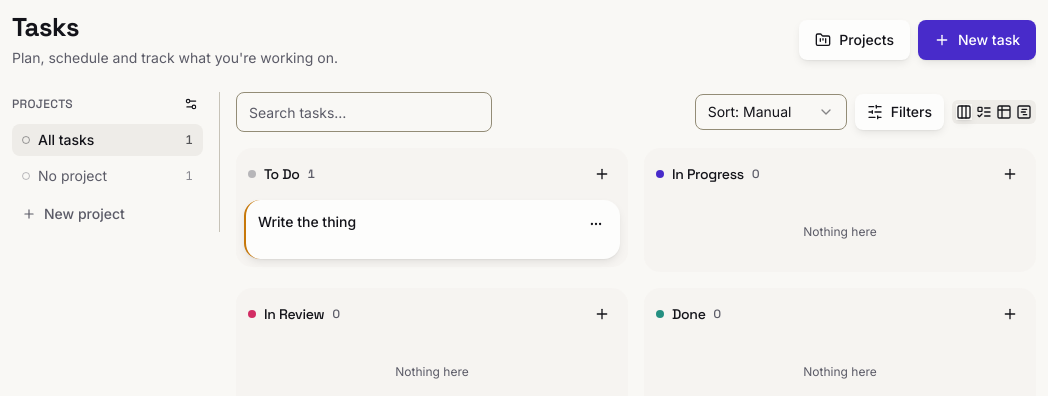
it: TasksPage › says why nothing is on the timeline when no task has a due date
Click the radio button named "Timeline view".
click(1024, 112)  # box [1016,104,1032,120]
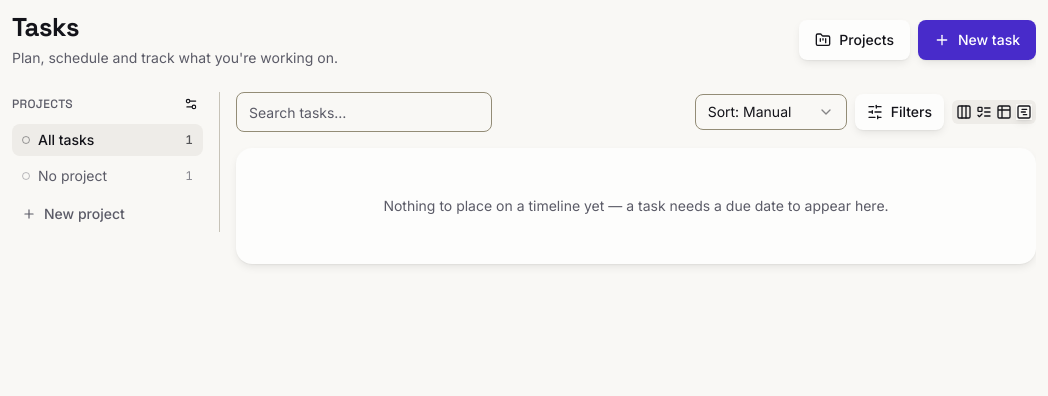
Result: the text "needs a due date" is shown at [383,197,889,214]
